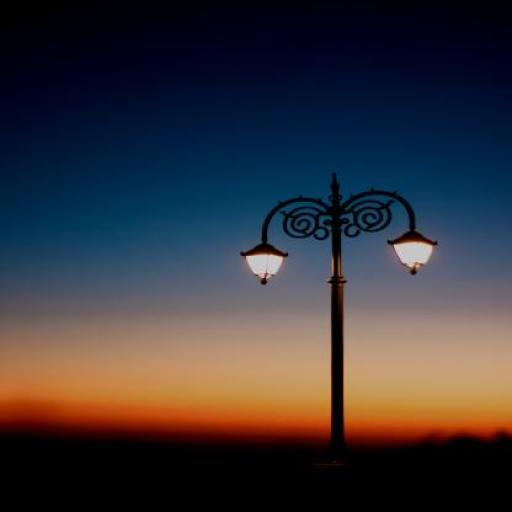street light: (244, 172, 440, 462)
